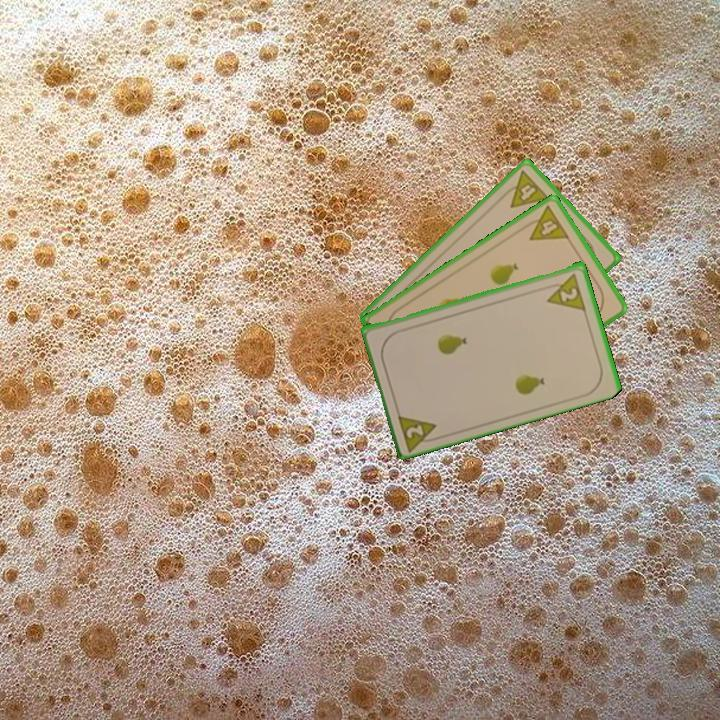2p: (394, 409, 444, 453), (541, 269, 588, 312)
4p: (498, 166, 552, 211), (519, 202, 572, 243)
